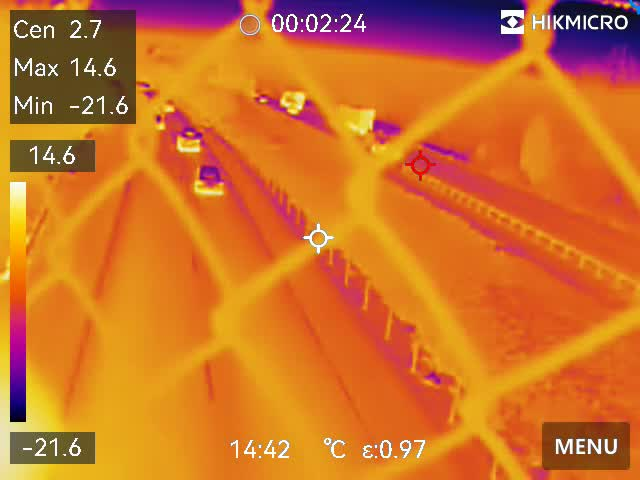heavyTruck: (327, 104, 376, 132), (276, 91, 306, 111)
vehicle: (194, 163, 227, 201), (175, 122, 204, 157), (159, 100, 177, 115)
